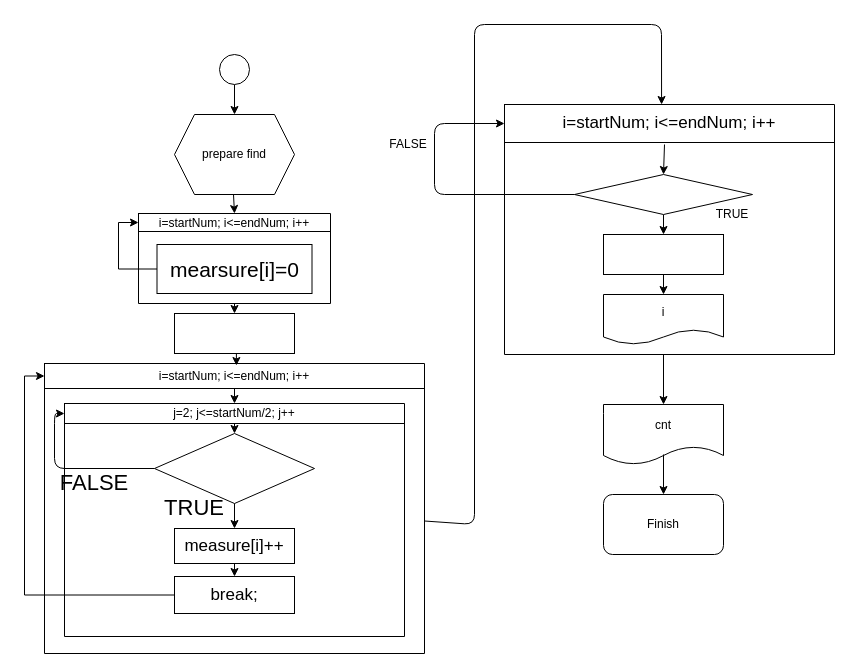
The diagram is 852 pixels wide and 671 high, and some of its shapes have lost their labels. Each missing label, with the box of its shape:
cnt++: (602, 234, 724, 274)
i%j==0: (154, 432, 314, 504)
measure[1] = 1: (174, 312, 294, 354)
measure[i]==0: (574, 174, 752, 214)
